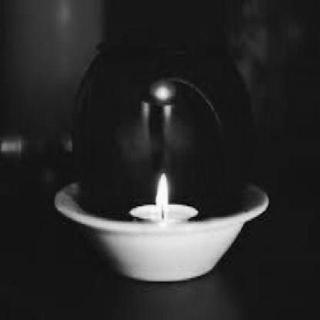Fire: (150, 164, 172, 222)
